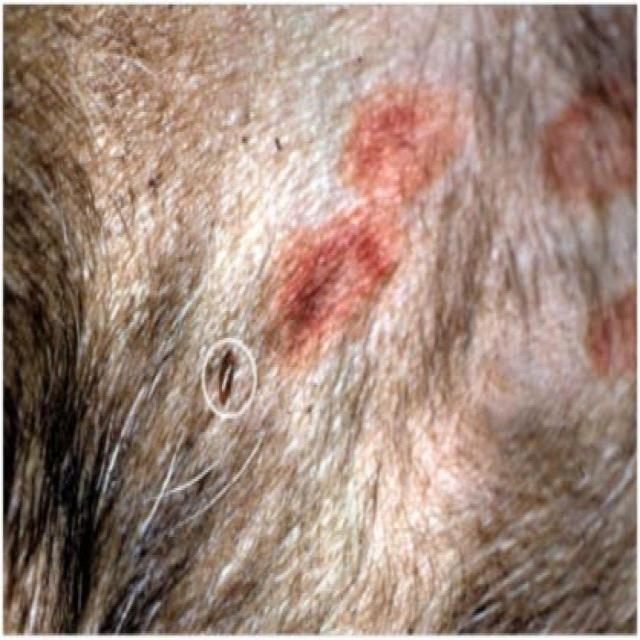allergic dermatitis: (250, 94, 458, 349)
